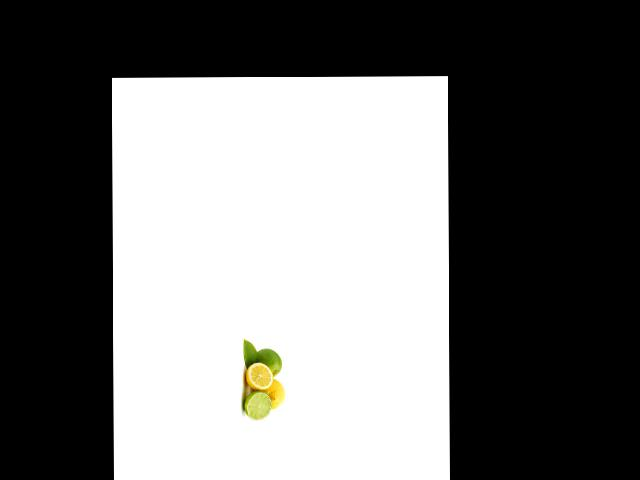lemon: (262, 379, 286, 410)
